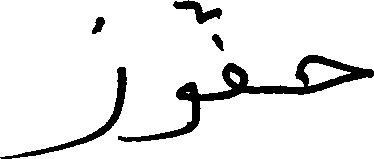X: (0, 12, 127, 158), (155, 0, 199, 144), (296, 50, 373, 99), (222, 36, 248, 104)
